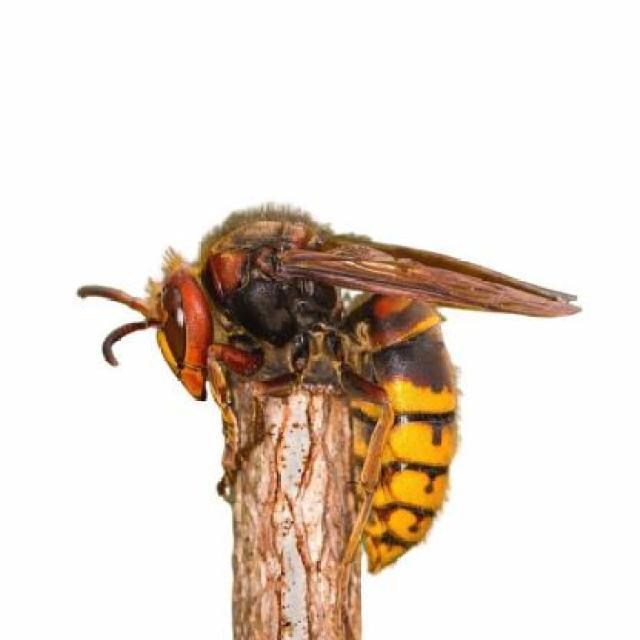Wasp: (63, 189, 586, 578)
